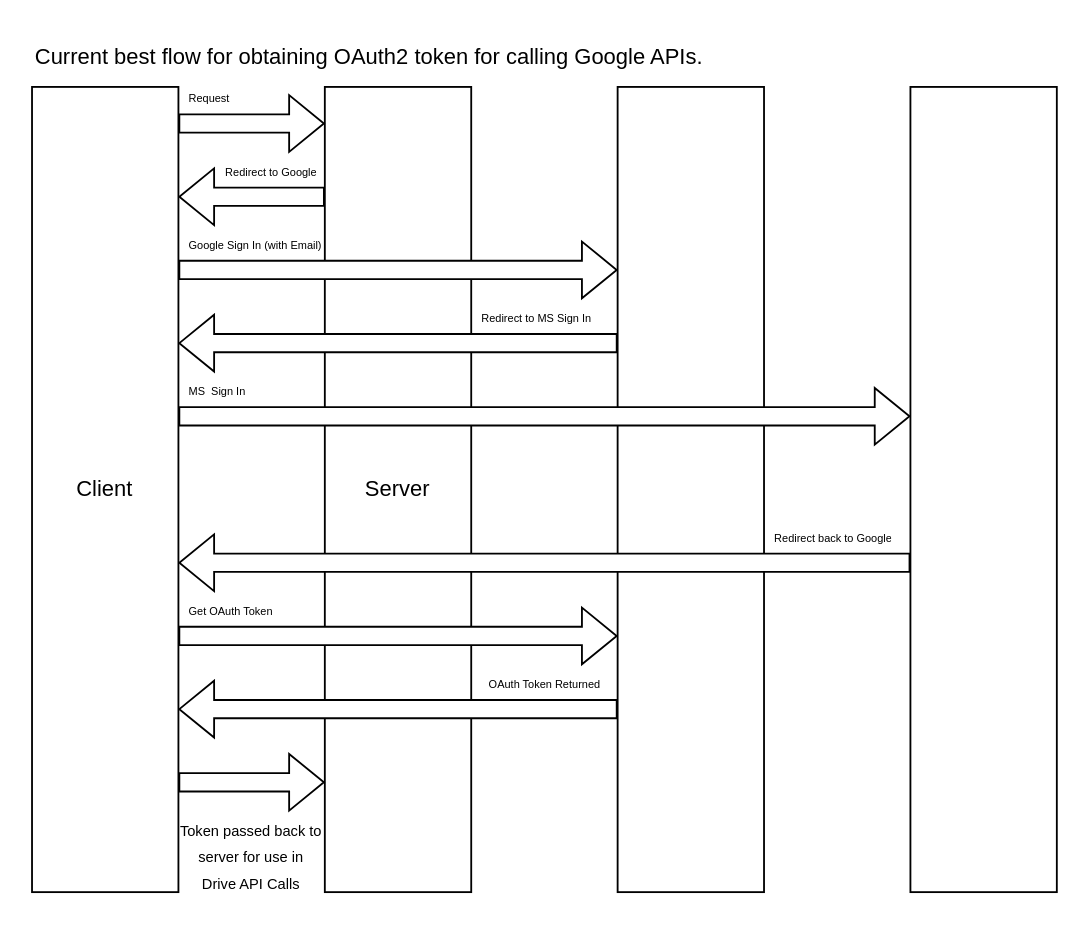
This 1089x926 diagram has some shape labels left out. The box of each missing label's shape, as (x1, y1, x2, y2) in pixels:
Entra ID (Azure AD): (909, 85, 1057, 892)
Google: (616, 85, 764, 892)
